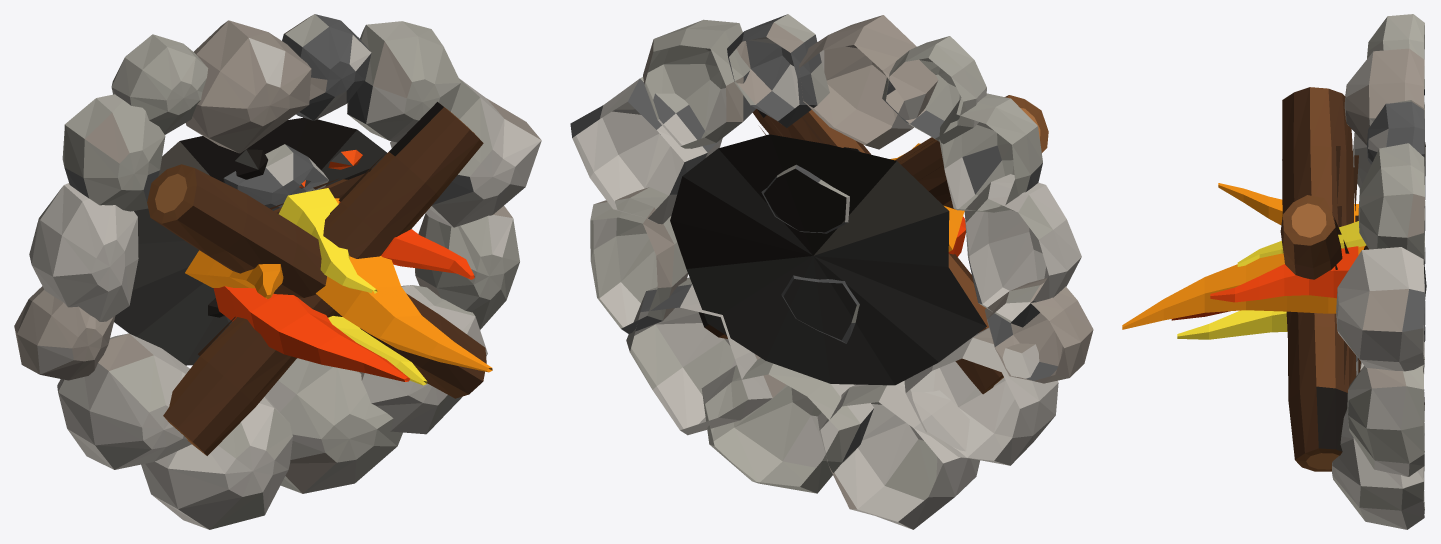
Rendered from campfire-refined.obj.
3 views of the same model, side by side, from view 1: azimuth 30°, elevation 25°; view 2: azimuth 150°, elevation 25°; view 3: azimuth 270°, elevation 25° (orthographic). The views are drawn at different scales.
Parts seen in each view (by area): view 1: cross_log_southwest_northeast, ash_and_coals, cross_log_northwest_southeast, stone_12, stone_10, stone_11, stone_04, stone_01, stone_06, stone_02, stone_07, flame_tongue_01 (+14 smaller); view 2: ash_and_coals, stone_11, stone_10, stone_07, stone_01, stone_09, stone_04, stone_12, stone_08, stone_06, stone_02, stone_05 (+6 smaller); view 3: cross_log_northwest_southeast, stone_07, stone_08, stone_06, stone_09, flame_tongue_02, stone_04, flame_tongue_04, stone_05, flame_tongue_03, cross_log_southwest_northeast, stone_03 (+8 smaller).
Boxes of the visible parts, bbox=[...] form: cross_log_southwest_northeast: bbox=[163, 102, 483, 455]; ash_and_coals: bbox=[114, 117, 386, 365]; cross_log_northwest_southeast: bbox=[152, 168, 486, 398]; stone_12: bbox=[57, 333, 191, 469]; stone_10: bbox=[265, 358, 402, 493]; stone_11: bbox=[141, 396, 292, 529]; stone_04: bbox=[185, 20, 311, 153]; stone_01: bbox=[29, 183, 138, 321]; stone_06: bbox=[347, 21, 460, 142]; stone_02: bbox=[62, 94, 165, 211]; stone_07: bbox=[390, 78, 541, 227]; flame_tongue_01: bbox=[213, 286, 409, 381]; ash_and_coals: bbox=[670, 134, 986, 385]; stone_11: bbox=[817, 381, 980, 529]; stone_10: bbox=[701, 358, 873, 493]; stone_07: bbox=[570, 77, 722, 224]; stone_01: bbox=[964, 174, 1081, 327]; stone_09: bbox=[626, 277, 785, 435]; stone_04: bbox=[799, 15, 938, 149]; stone_12: bbox=[904, 327, 1058, 465]; stone_08: bbox=[590, 187, 688, 333]; stone_06: bbox=[643, 19, 755, 148]; stone_02: bbox=[939, 93, 1042, 212]; stone_05: bbox=[727, 14, 829, 127]; cross_log_northwest_southeast: bbox=[1282, 87, 1356, 459]; stone_07: bbox=[1336, 247, 1424, 371]; stone_08: bbox=[1347, 357, 1424, 476]; stone_06: bbox=[1358, 143, 1424, 264]; stone_09: bbox=[1332, 409, 1424, 529]; flame_tongue_02: bbox=[1122, 245, 1365, 329]; stone_04: bbox=[1344, 48, 1424, 145]; flame_tongue_04: bbox=[1210, 246, 1358, 302]; stone_05: bbox=[1367, 100, 1424, 178]; flame_tongue_03: bbox=[1177, 310, 1287, 339]; cross_log_southwest_northeast: bbox=[1280, 215, 1342, 279]; stone_03: bbox=[1367, 14, 1424, 95].
Bounding box in the file's own units: 1.93 × 1.78 × 1.11.
